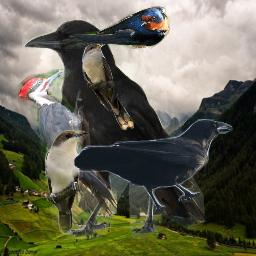Crow: (22, 19, 206, 239), (73, 119, 233, 213)
Cuckoo: (45, 130, 89, 235), (82, 43, 134, 130)
Swallow: (62, 6, 170, 49)
Woodpecker: (18, 69, 117, 214)
